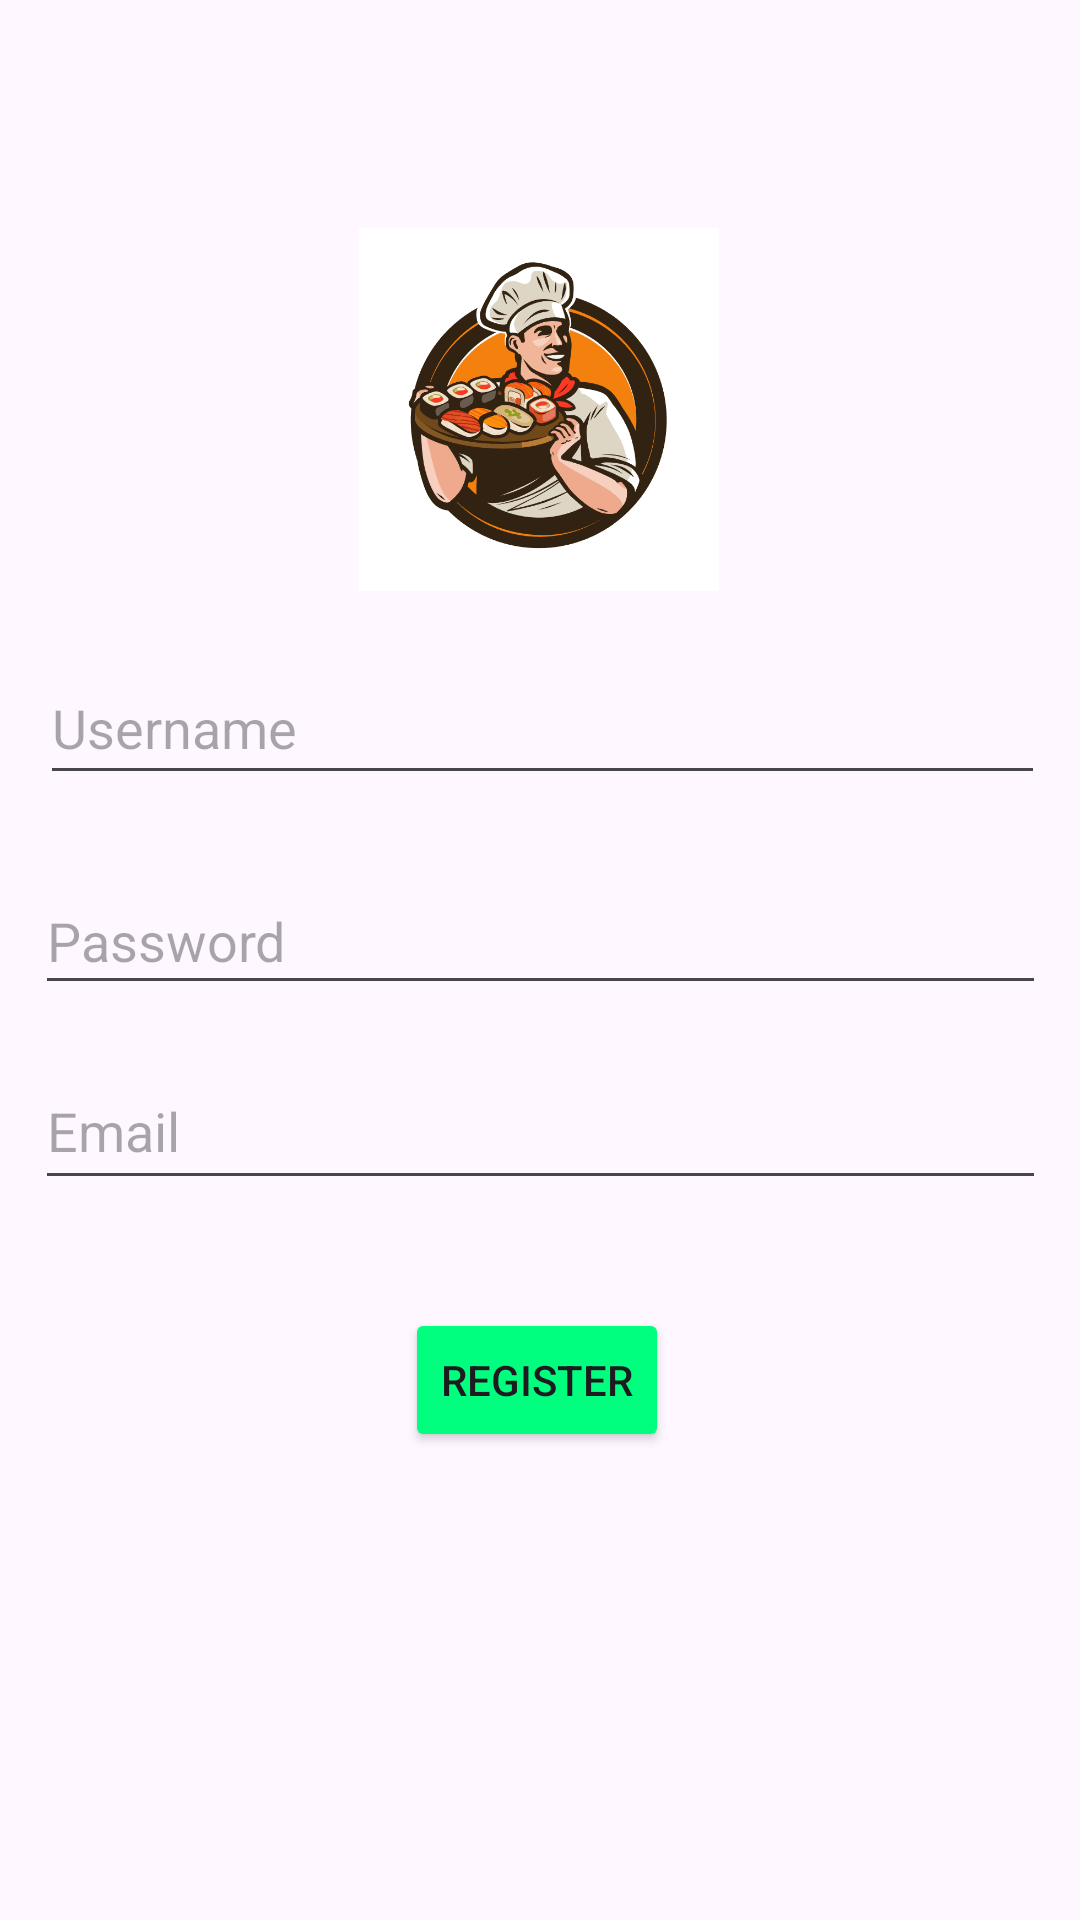

Locate icon controls on the screen. Image size 1080x1920, boxes as [x1=x1, y1=y1, x2=x2, y2=y2].
daubep: [x1=409, y1=262, x2=667, y2=548]
